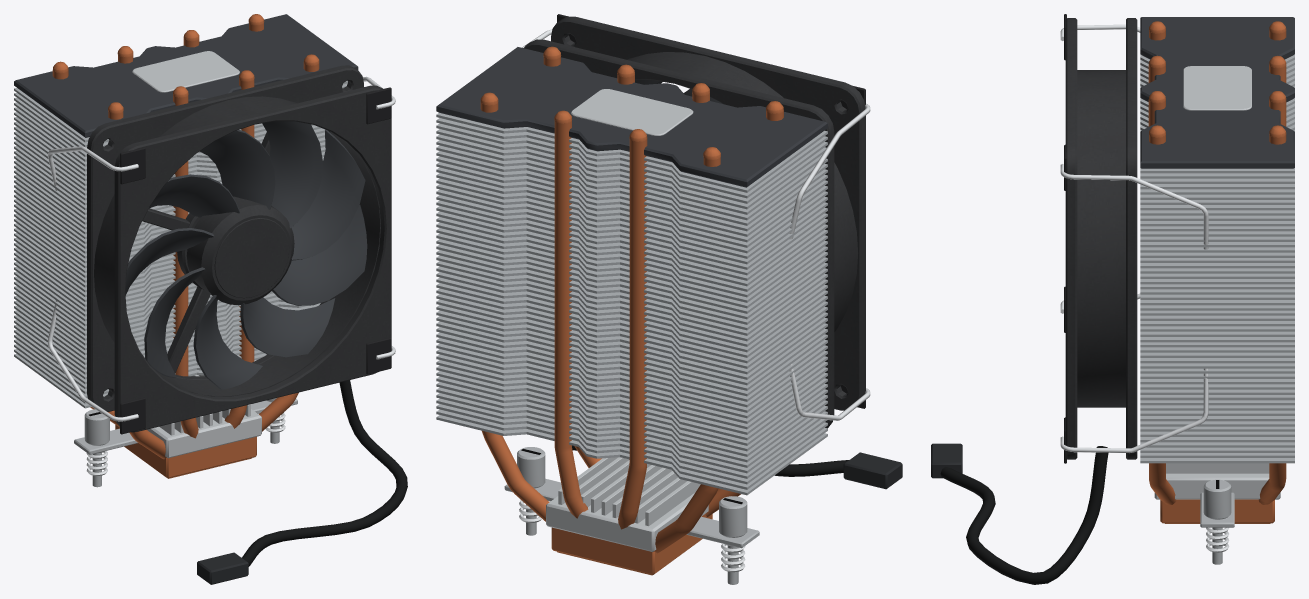
The model's file is cpu-cooler.glb.
3 renders of one model, left to right at view 1: azimuth 30°, elevation 25°; view 2: azimuth 150°, elevation 25°; view 3: azimuth 270°, elevation 25°, orthographic. The views are drawn at different scales.
Parts seen in each view (by area): view 1: Cpu_Cooler, Fan; view 2: Cpu_Cooler; view 3: Cpu_Cooler.
Boxes of the visible parts, x1=… form: Cpu_Cooler: x1=14, y1=14, x2=407, y2=584; Fan: x1=125, y1=121, x2=367, y2=389; Cpu_Cooler: x1=436, y1=14, x2=902, y2=584; Cpu_Cooler: x1=931, y1=14, x2=1294, y2=584.
Bounding box in the file's own units: 0.1266 × 0.1701 × 0.127.
13 materials, 1 textured.
